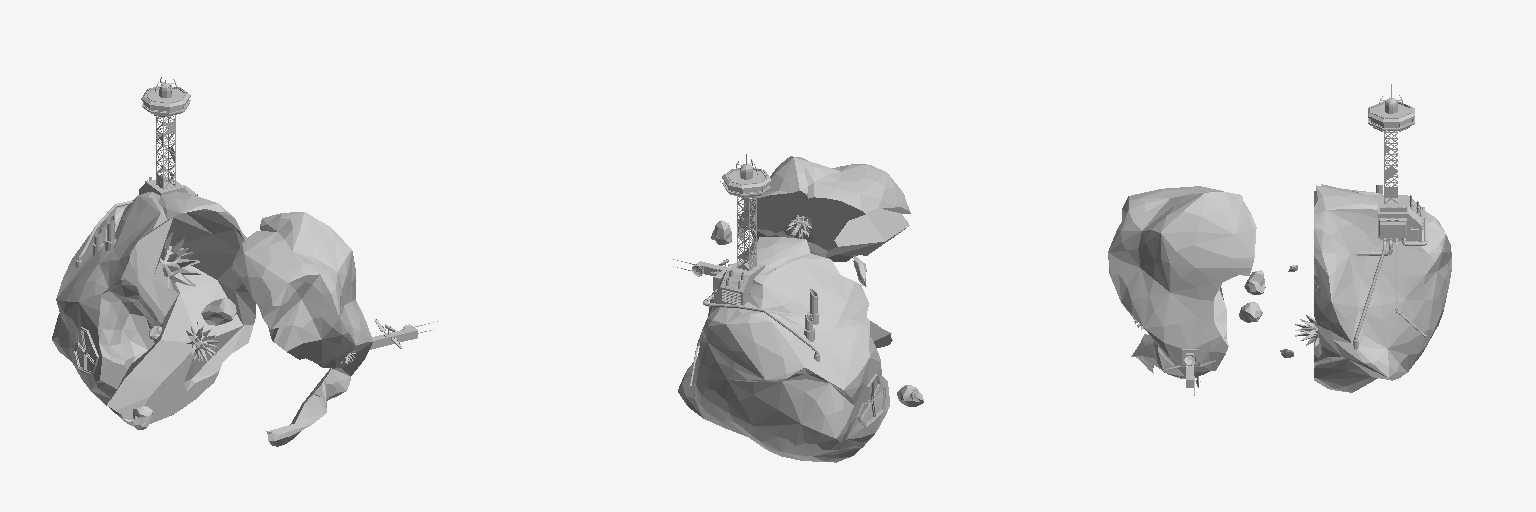
File: Serenity Outpost.obj
3 views of the same model, side by side, from view 1: azimuth 30°, elevation 25°; view 2: azimuth 150°, elevation 25°; view 3: azimuth 270°, elevation 25° (orthographic).
Visible parts, largest first — view 1: station; view 2: station; view 3: station.
Part boxes in pixels (left/top/right/bottom): station: left=52, top=77, right=437, bottom=446; station: left=673, top=154, right=923, bottom=462; station: left=1108, top=84, right=1451, bottom=395.
Bounding box in the file's own units: 192 × 214 × 203.